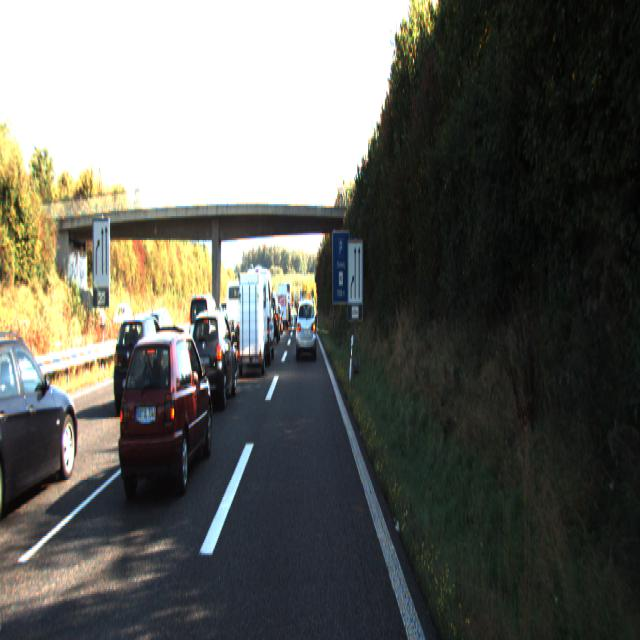Car: (118, 328, 215, 504), (0, 330, 83, 528), (113, 312, 175, 414), (187, 307, 238, 411), (234, 270, 266, 377), (244, 266, 275, 364), (296, 296, 316, 359), (263, 295, 281, 345), (276, 282, 289, 328)
